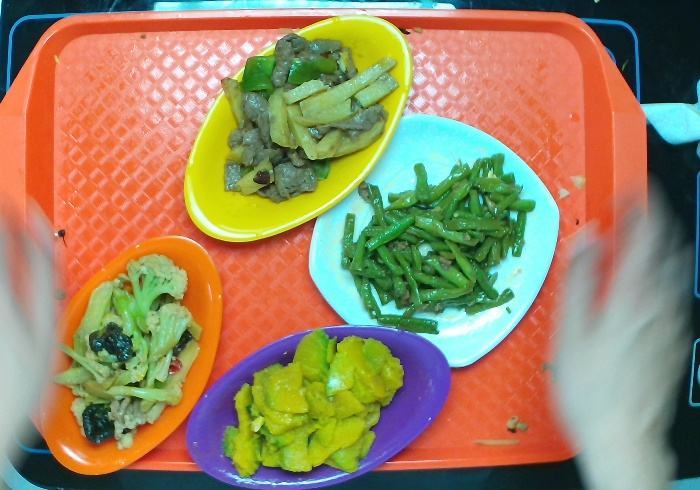RJxy-Fen_Hong_Tuo_Yuan: (190, 320, 455, 490)
RJxy-Huang_Se_Tuo_Yuan: (176, 13, 415, 251)
RJxy-Ju_Huang_Tuo_Yuan: (40, 229, 224, 477)
RJxy-Si_Fang_Die: (305, 110, 565, 377)
